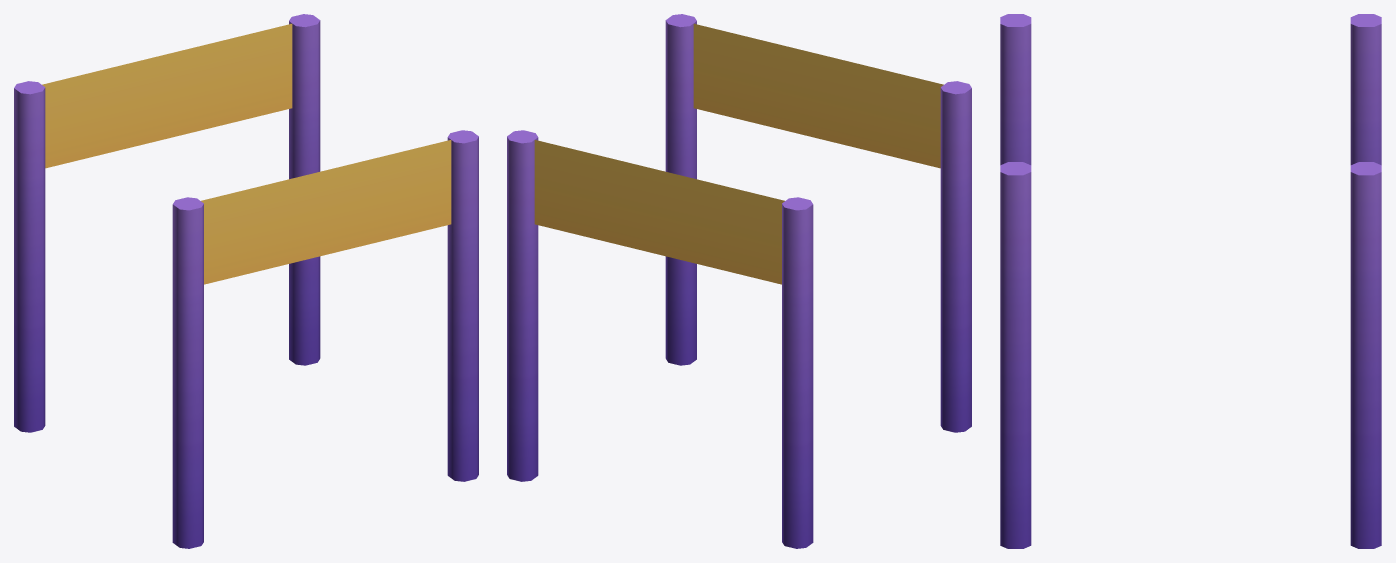
The model's file is kenney-marble-banner-double-high.glb.
3 views of the same model, side by side, from view 1: azimuth 30°, elevation 25°; view 2: azimuth 150°, elevation 25°; view 3: azimuth 270°, elevation 25° (orthographic). The views are drawn at different scales.
Parts seen in each view (by area): view 1: banner-double-high; view 2: banner-double-high; view 3: banner-double-high.
Part boxes in pixels (x1,y1,x2,y2): banner-double-high: [14, 14, 478, 548]; banner-double-high: [507, 14, 971, 548]; banner-double-high: [1000, 14, 1381, 548].
Bounding box in the file's own units: 0.925 × 1 × 0.925.
1 material, 1 textured.
